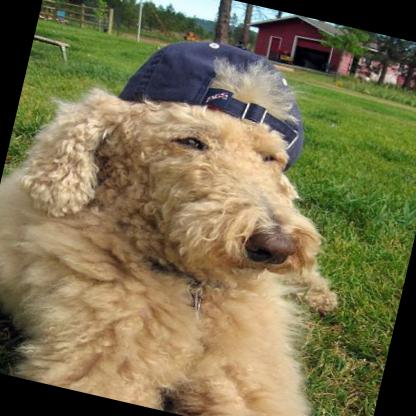standard_poodle: (0, 0, 407, 416)
